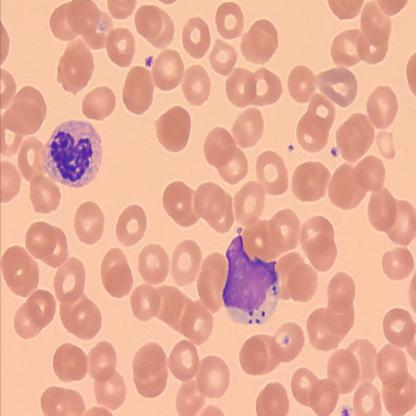Atypical lymphocyte: (223, 225, 281, 327), (44, 116, 106, 191)
